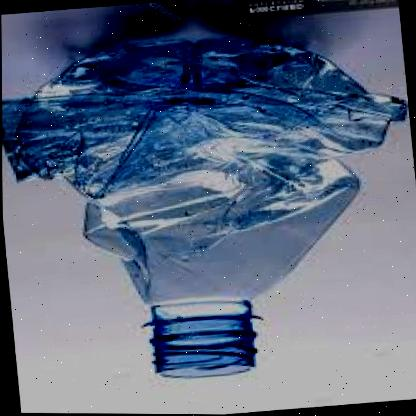Plastic Bottle: (3, 32, 408, 378), (2, 34, 408, 198), (83, 150, 365, 306), (144, 300, 262, 378)
